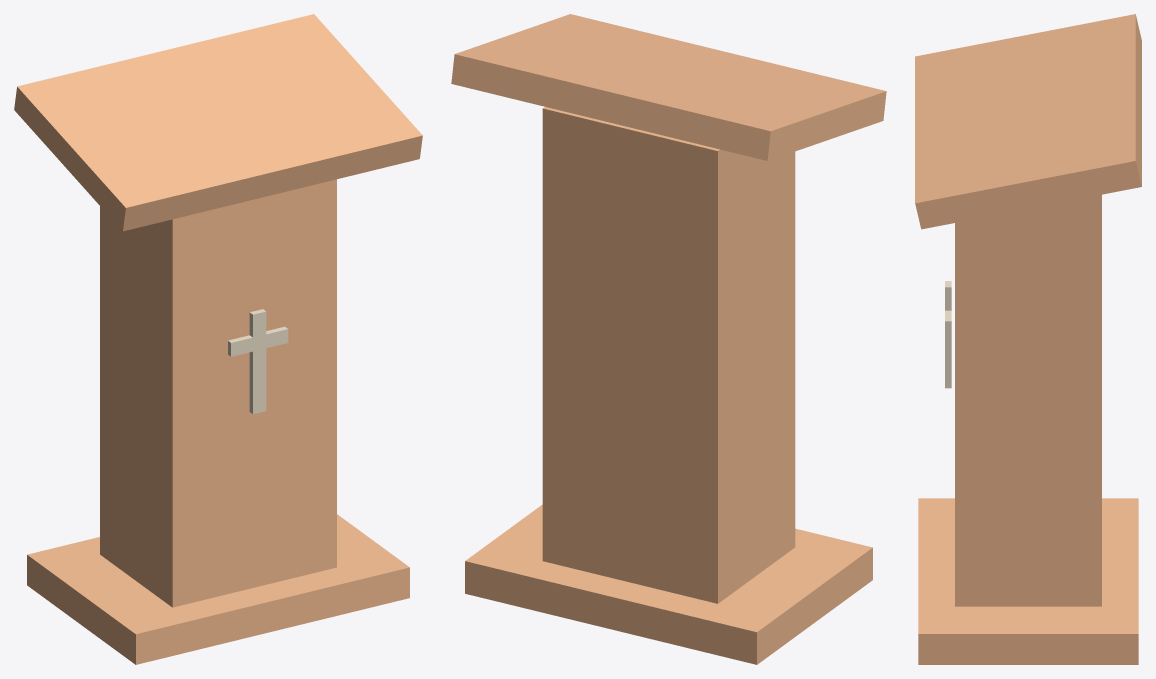
3 views of the same model, side by side, from view 1: azimuth 30°, elevation 25°; view 2: azimuth 150°, elevation 25°; view 3: azimuth 270°, elevation 25° (orthographic). The views are drawn at different scales.
Parts seen in each view (by area): view 1: Body, Reading top, Foot, Cross upright, Cross arm; view 2: Body, Reading top, Foot; view 3: Body, Reading top, Foot, Cross upright.
Boxes of the visible parts, x1=… form: Body: x1=100, y1=179, x2=336, y2=607; Reading top: x1=14, y1=14, x2=422, y2=231; Foot: x1=27, y1=514, x2=409, y2=664; Cross upright: x1=249, y1=309, x2=266, y2=414; Cross arm: x1=228, y1=326, x2=288, y2=356; Body: x1=542, y1=107, x2=795, y2=603; Reading top: x1=451, y1=14, x2=886, y2=160; Foot: x1=465, y1=504, x2=872, y2=664; Body: x1=955, y1=194, x2=1101, y2=606; Reading top: x1=915, y1=14, x2=1141, y2=229; Foot: x1=918, y1=498, x2=1138, y2=664; Cross upright: x1=945, y1=281, x2=951, y2=388.
Bounding box in the file's own units: 78 × 126 × 50.87.
